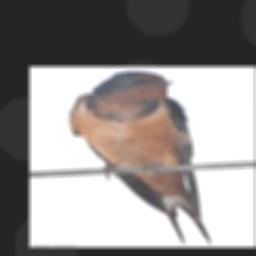Swallow: (66, 70, 213, 245)
